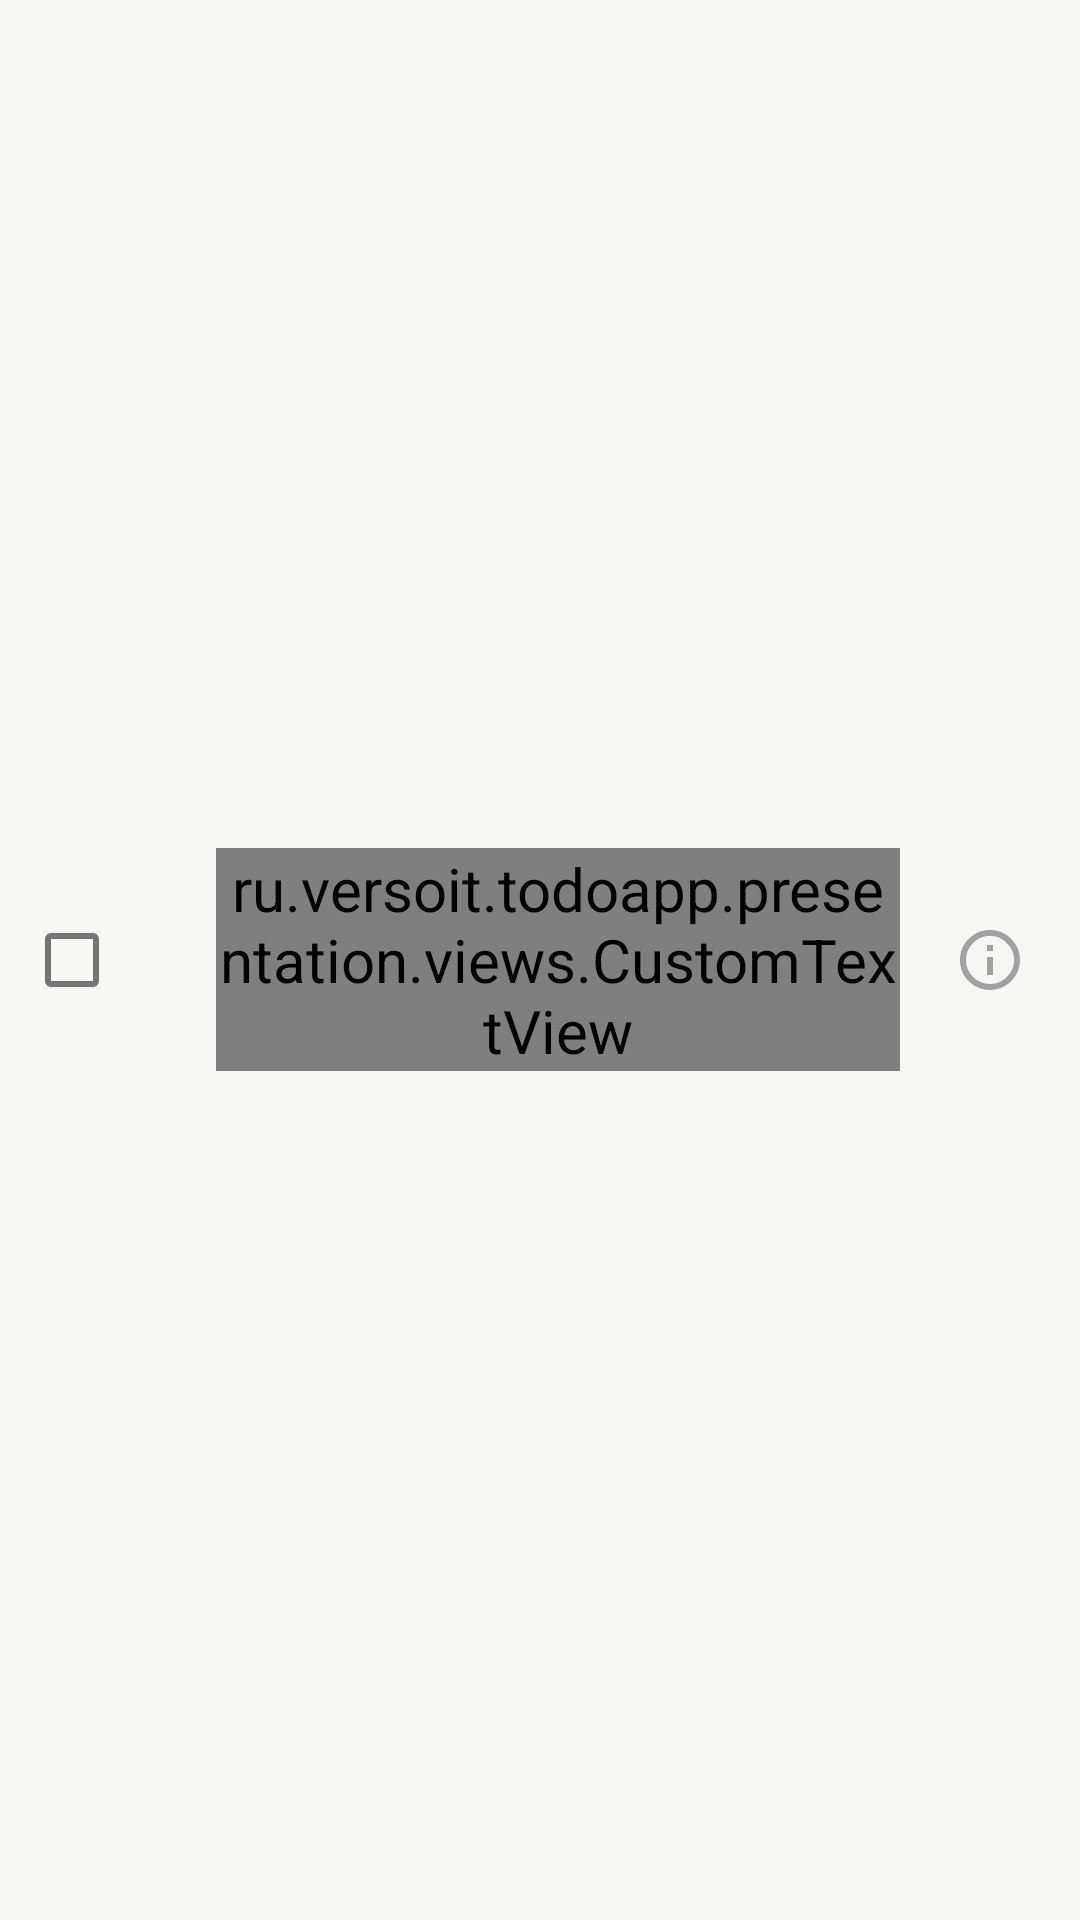

Icon bounding boxes for this 1080px x 1920px phone screenshot, format (x1, y1, x2, y2):
Info: (960, 930, 1020, 990)
